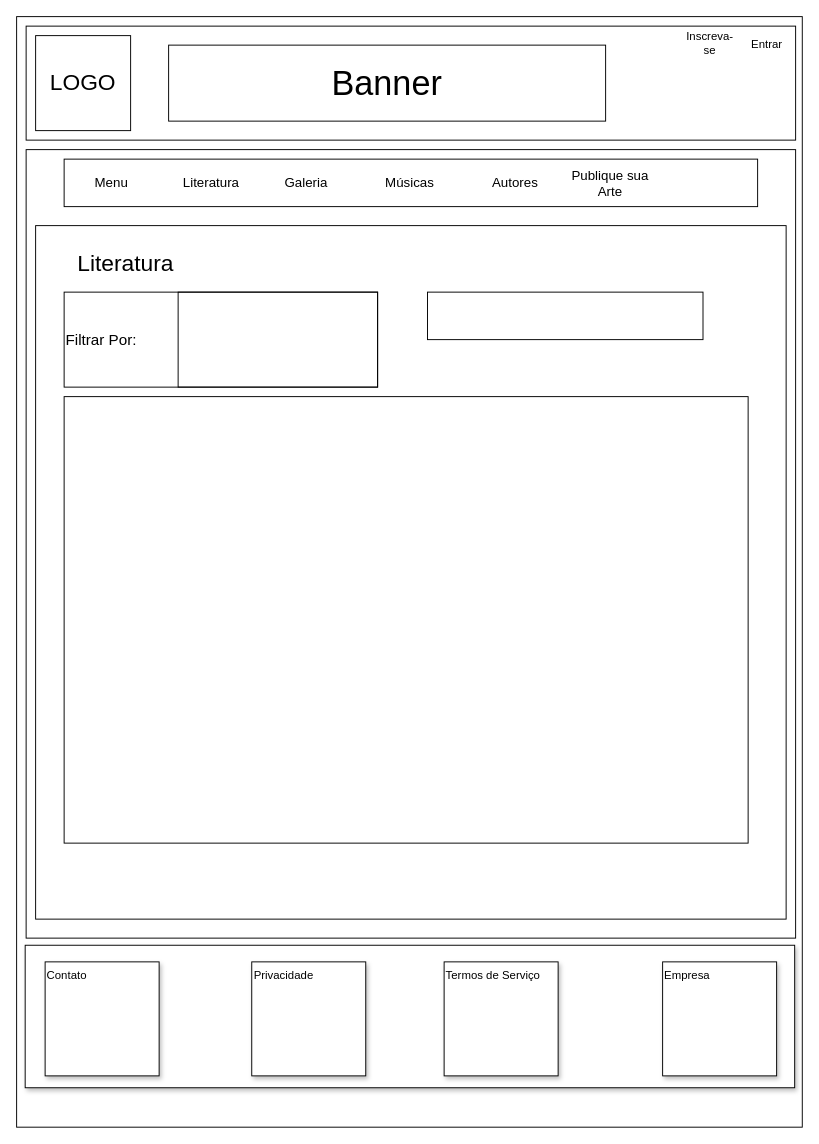
Image size: 819x1144. Some labels were removed from this diagram. Each missing label, with the centre of its shape:
Gênero Pesquisar... Autor Pesquisar... Data de Publicação Pesquisar...: the point at 277,339
Pesquisar...: the point at 565,315
Títulos: the point at 405,619
